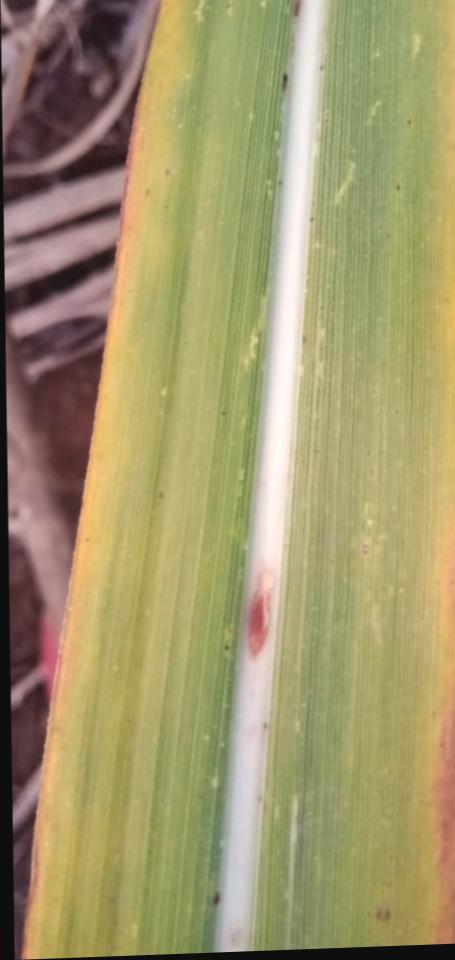RedRot: (247, 557, 276, 664)
Rust: (211, 891, 222, 910), (293, 0, 302, 18), (280, 73, 288, 93), (383, 909, 391, 923), (144, 187, 153, 197), (164, 167, 171, 179), (260, 721, 269, 730), (375, 909, 382, 920), (220, 408, 227, 418), (157, 491, 165, 499), (162, 203, 169, 212), (223, 644, 230, 653), (406, 118, 413, 126), (308, 216, 316, 223), (277, 179, 282, 188), (395, 183, 400, 191), (319, 64, 324, 71), (366, 911, 370, 917)
Yellow: (426, 521, 455, 945)
